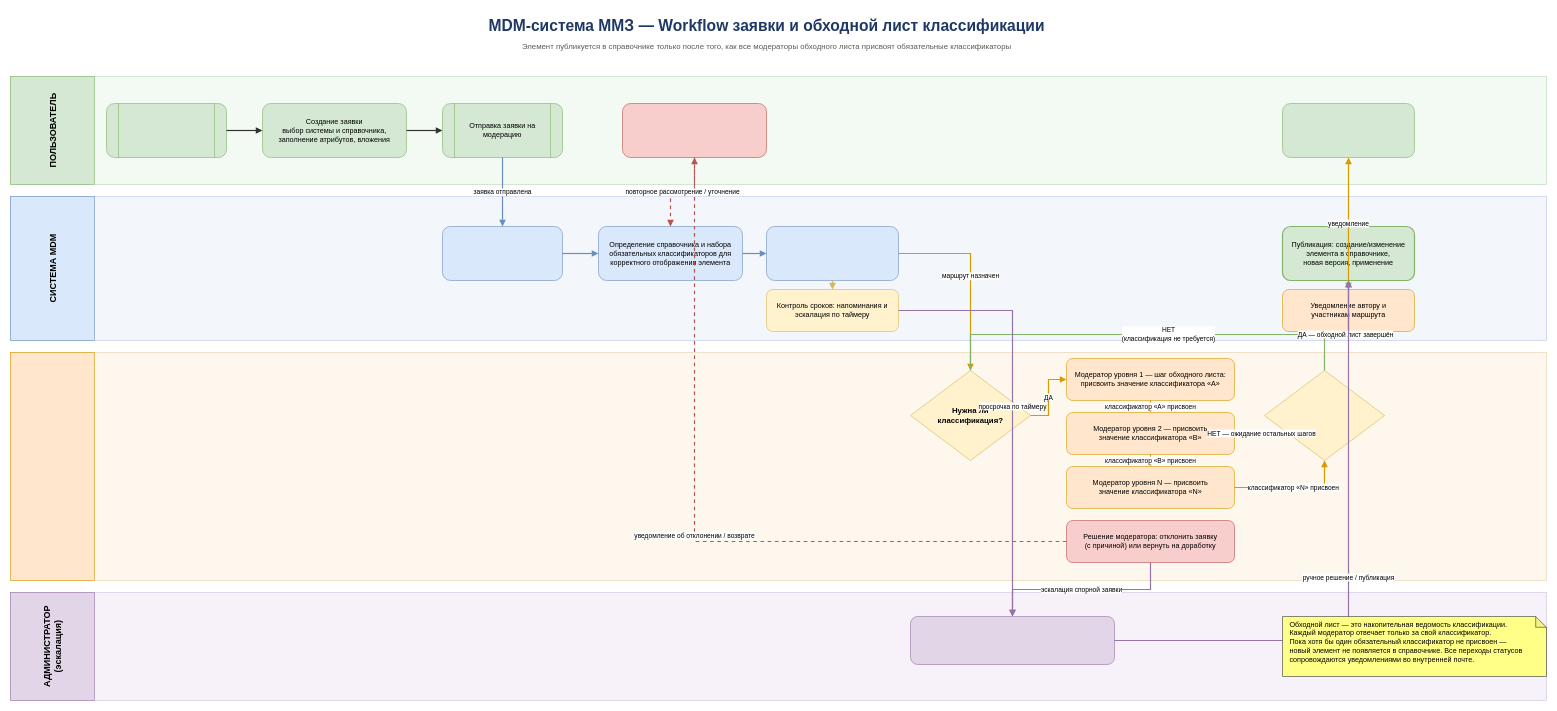
Image size: 1557x711. Some labels were removed from this diagram. Each missing label, with the box of its shape:
Администратор: арбитраж обжалования, разрешение спорных заявок, ручное решение: (910, 616, 1114, 664)
Все шаги обходного листа выполнены?: (1264, 370, 1384, 460)
МОДЕРАТОРЫ (обходной лист): (10, 352, 94, 580)
Обжалование заявки уточнение данных, повторное рассмотрение: (622, 103, 766, 158)
Получение уведомления о результате (внутренняя почта): (1282, 103, 1414, 158)
Приём заявки: проверка полей, регистрация, уведомление ответственных: (442, 226, 562, 280)
Старт: потребность добавить/изменить/удалить элемент НСИ: (106, 103, 226, 158)
Формирование обходного листа пошаговый маршрут модераторов по их классификаторам: (766, 226, 898, 280)
